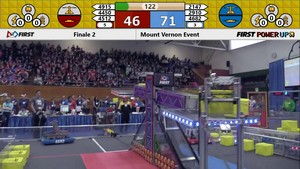cube: (201, 88, 235, 115), (3, 158, 25, 169), (256, 142, 273, 156), (240, 137, 254, 151), (282, 120, 298, 132), (14, 145, 31, 156), (220, 135, 233, 146)
